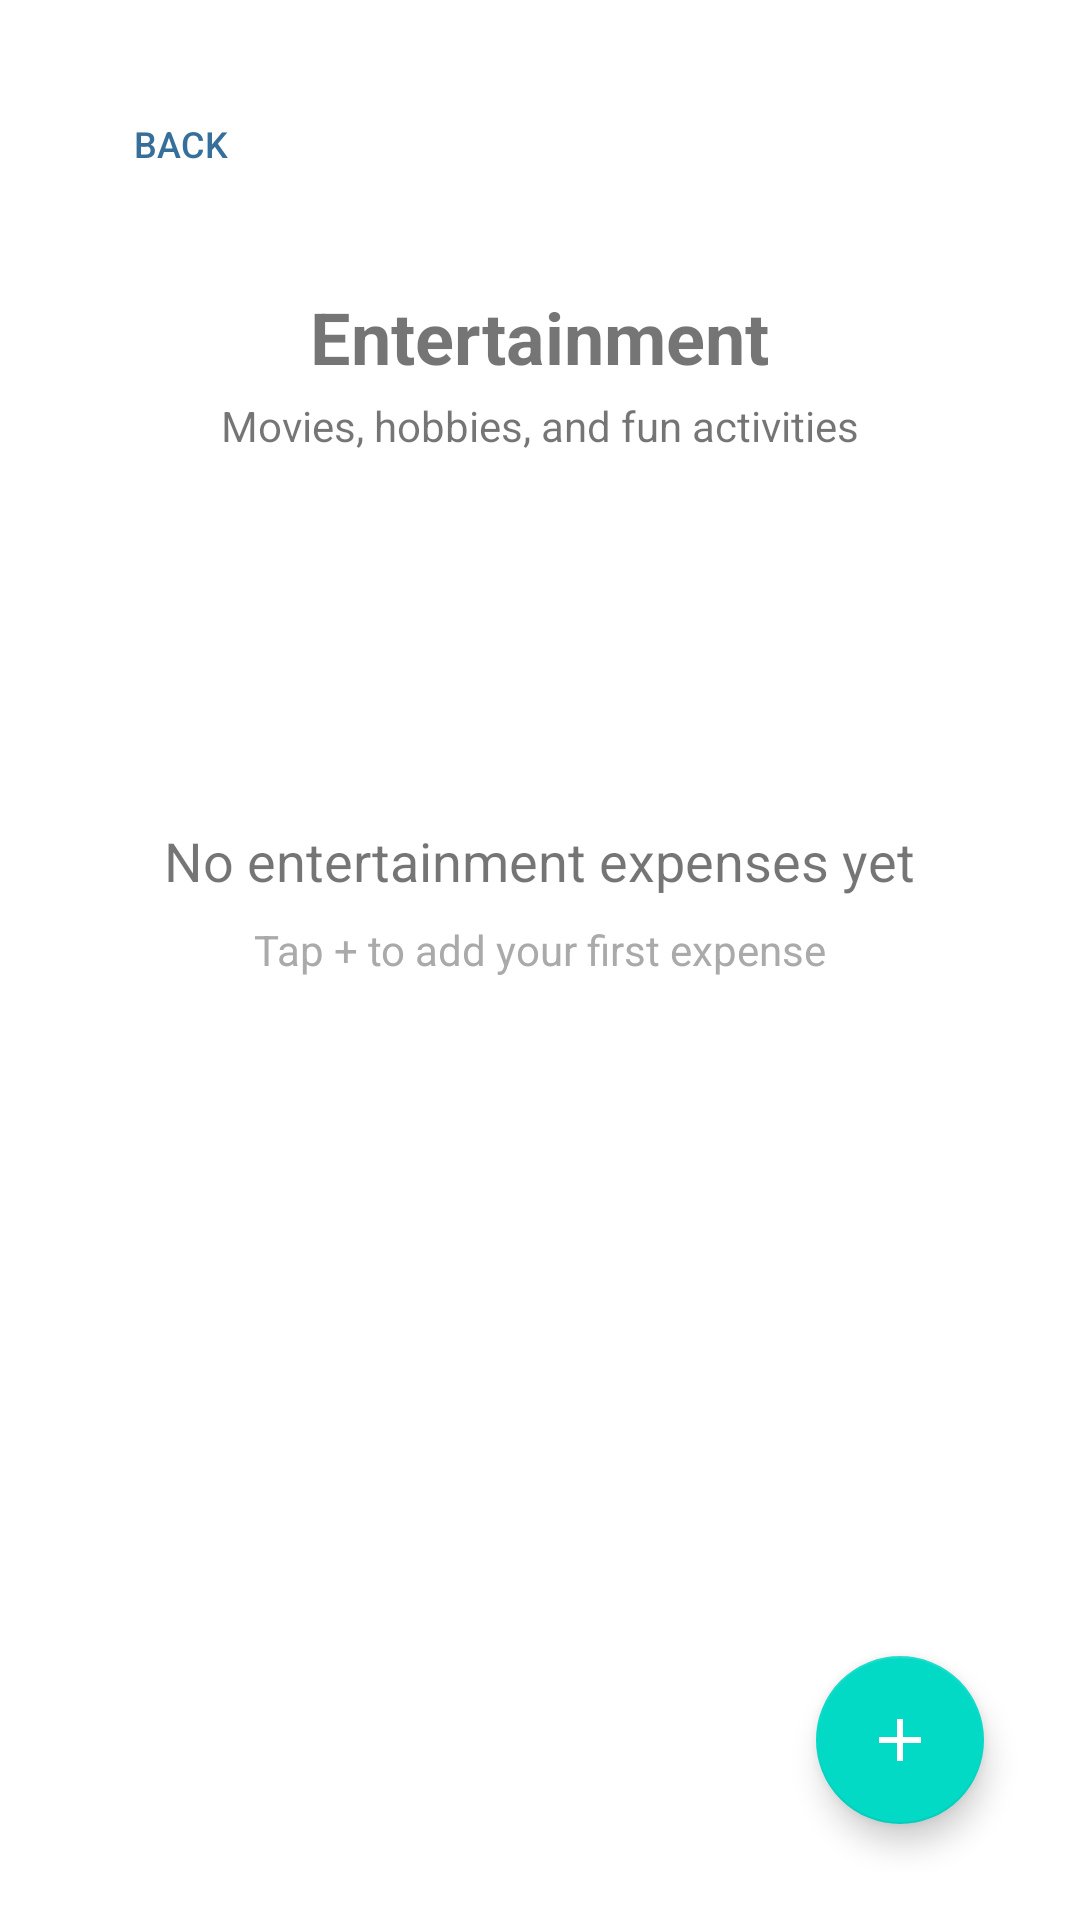

Icons on this 1080*1920 Android screen, each with the point to tap as [x,y]:
Add expense: [900,1740]
